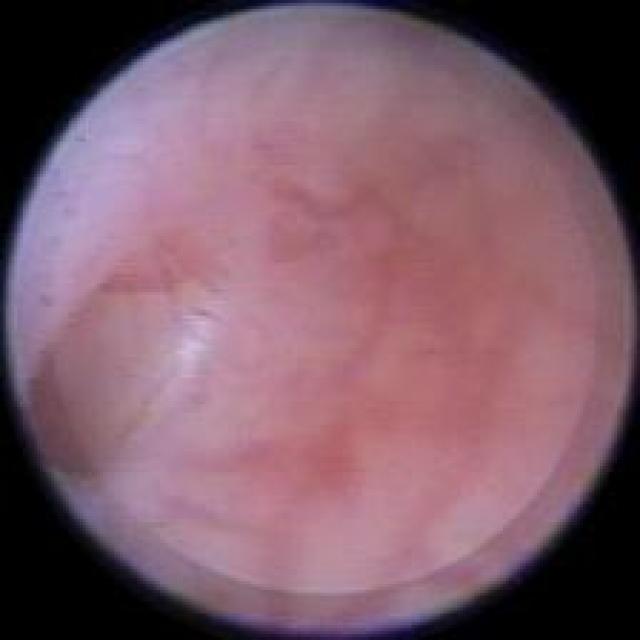blur: (25, 16, 630, 594)
